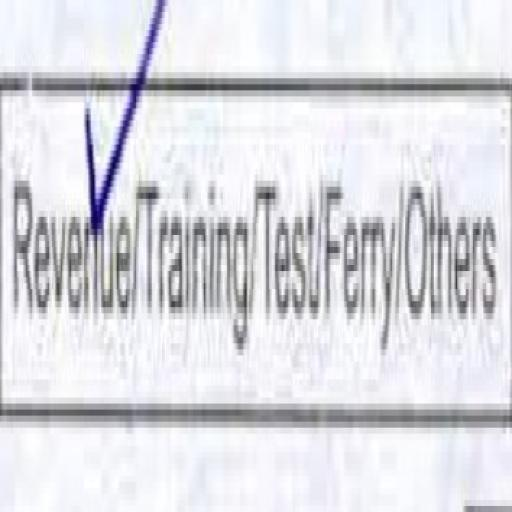check: (2, 0, 138, 487)
